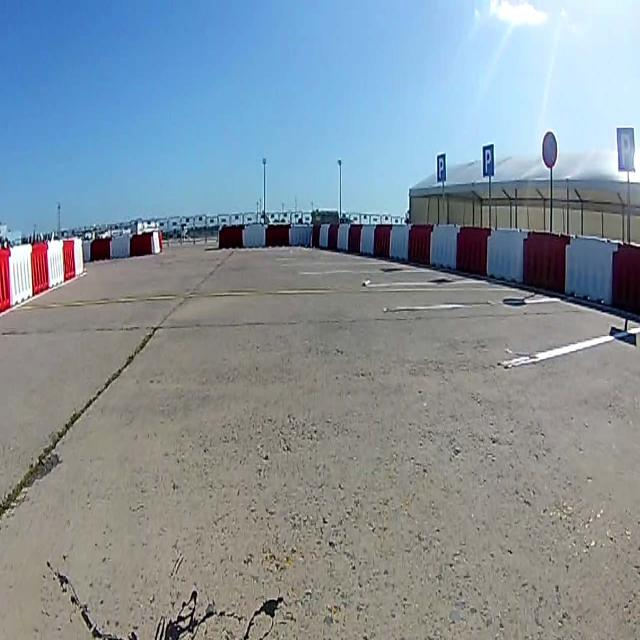park: (616, 126, 636, 172), (482, 144, 494, 177), (436, 153, 446, 182)
parkyasak: (542, 131, 558, 169)
